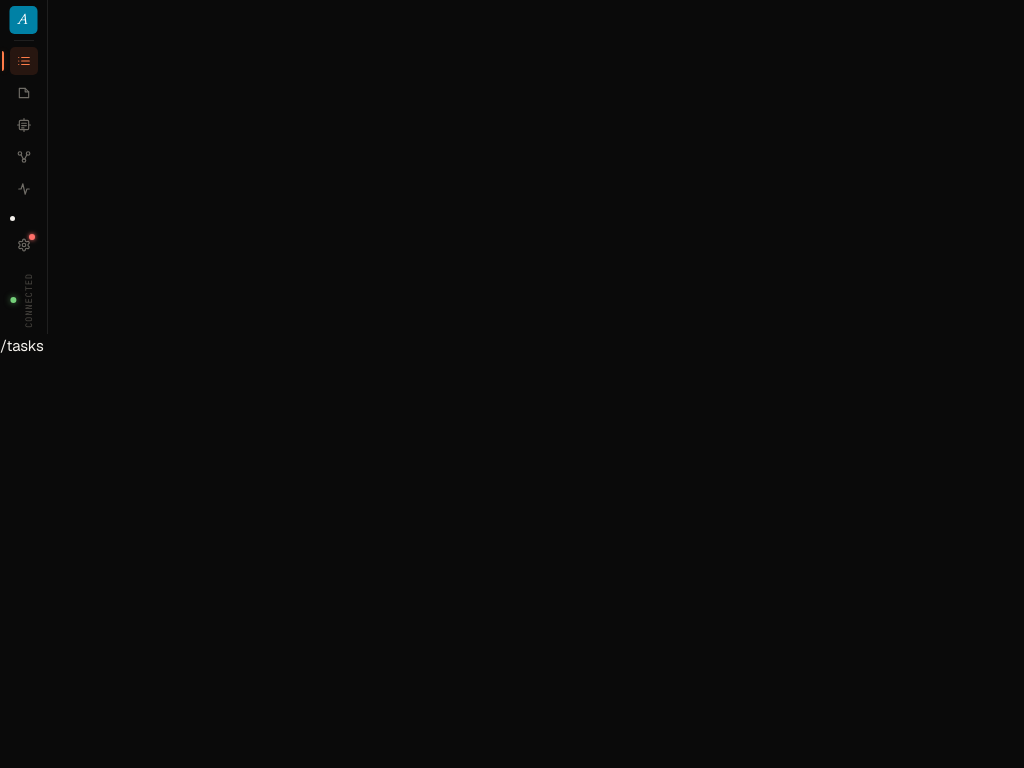
Test: Sidebar project switcher › surfaces project selection failures without resetting or reloading
Click the button with test id "sidebar-project-avatar" at (23, 20), box [9,6,37,34]
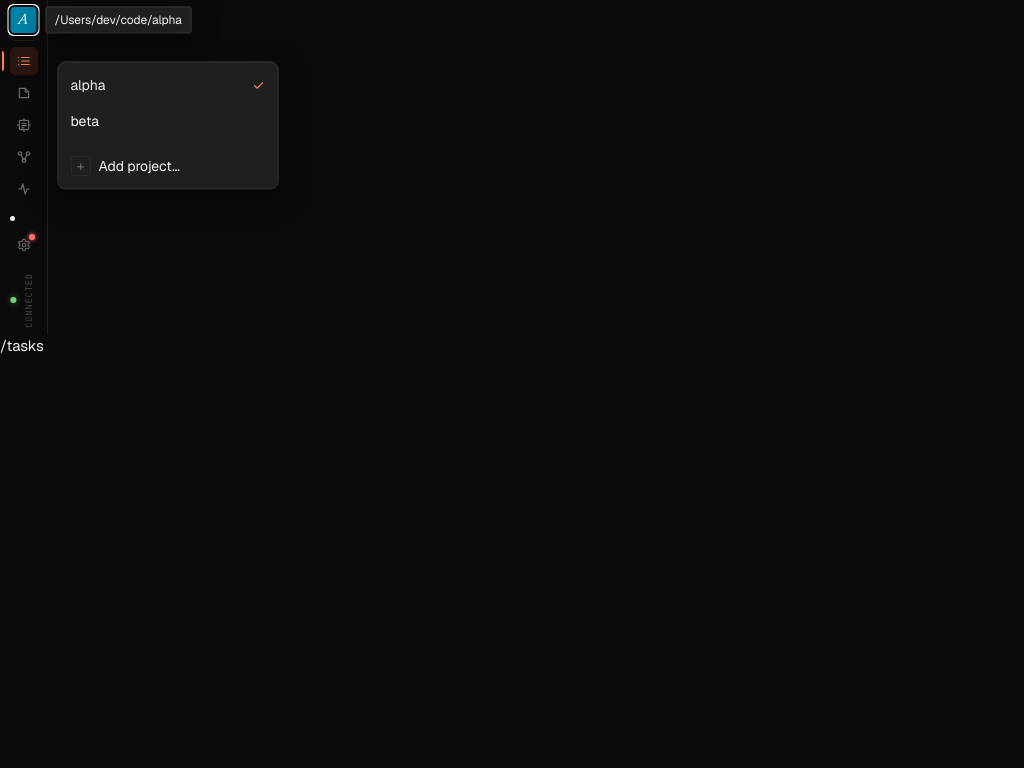
Check: the dialog named "Switch project" is shown, box [58,62,278,189]
Click the button with test id "sidebar-add-project" at (168, 166), box [58,148,276,184]
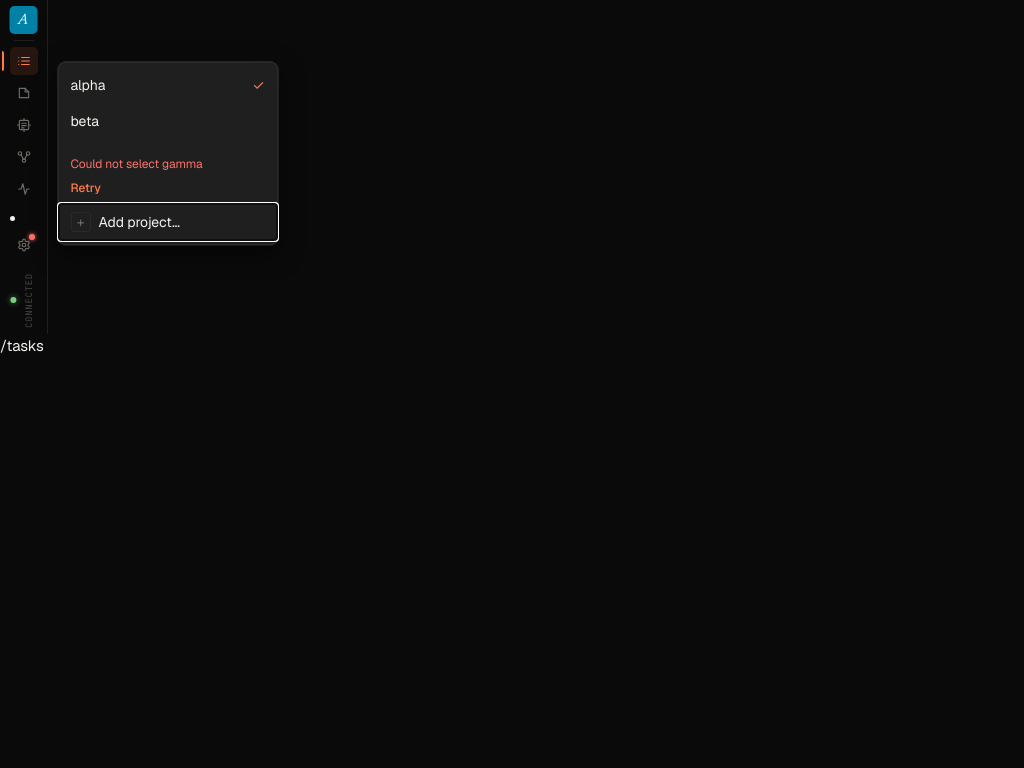
Check: the message with test id "sidebar-add-project-error" shows "Could not select gamma", box [70,156,203,172]
